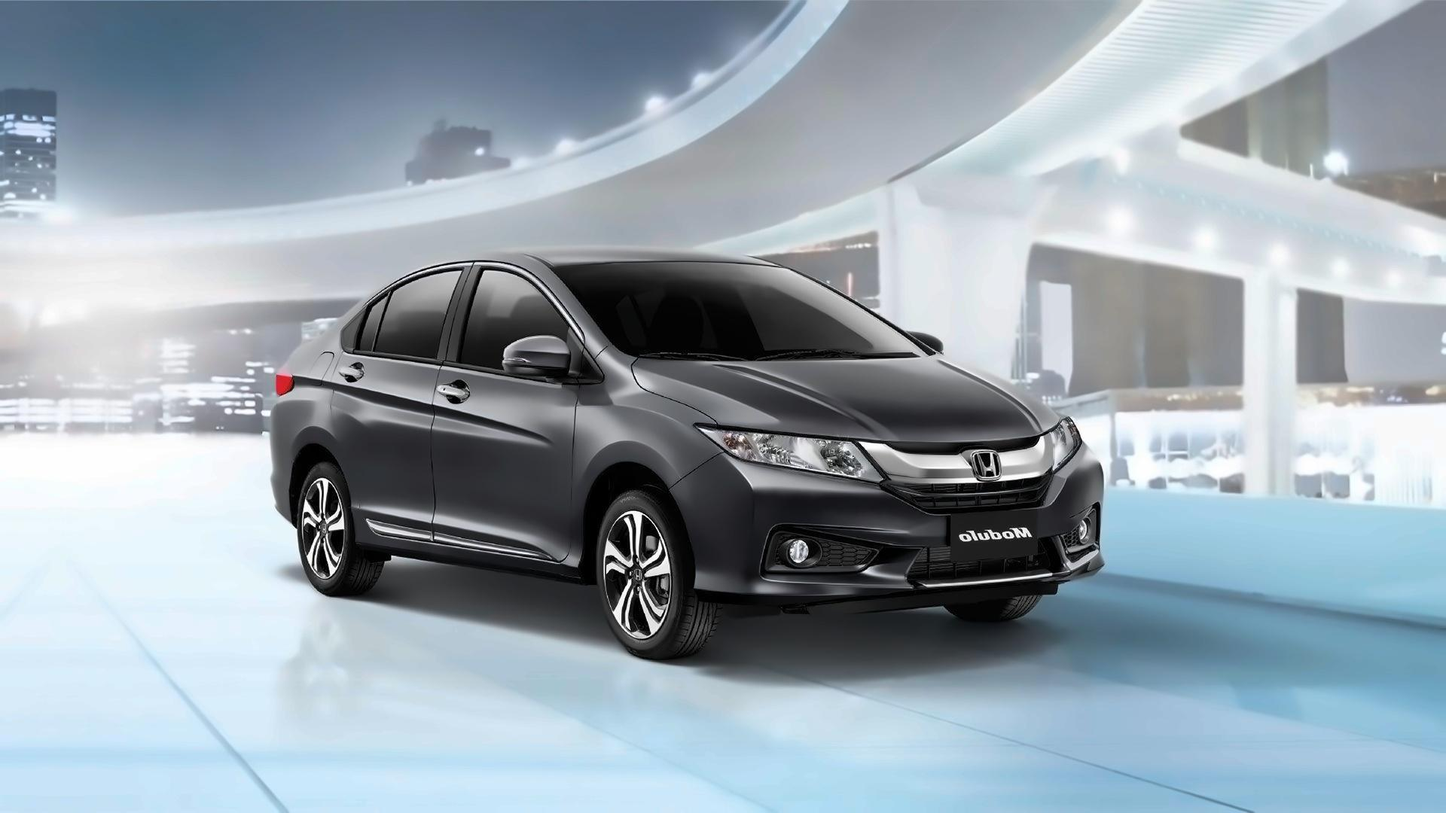Car hood: (633, 357, 1071, 448)
Driver-s door - -F-R-: (436, 259, 583, 552)
Fender - -F-R-: (553, 371, 736, 586)
Fender - -R-R-: (282, 328, 349, 478)
Front bumper: (669, 448, 1110, 610)
Headlight - -L-: (1030, 409, 1092, 484)
Headlight - -R-: (693, 409, 893, 498)
Passenger-s door - -R-R-: (329, 256, 459, 521)
Rear bumper: (244, 404, 334, 526)
Rear light - -R-: (264, 352, 315, 416)
Side bumper - -R-: (343, 498, 610, 600)
Side mirror - -L-: (891, 314, 968, 371)
Side mirror - -R-: (490, 309, 589, 400)
